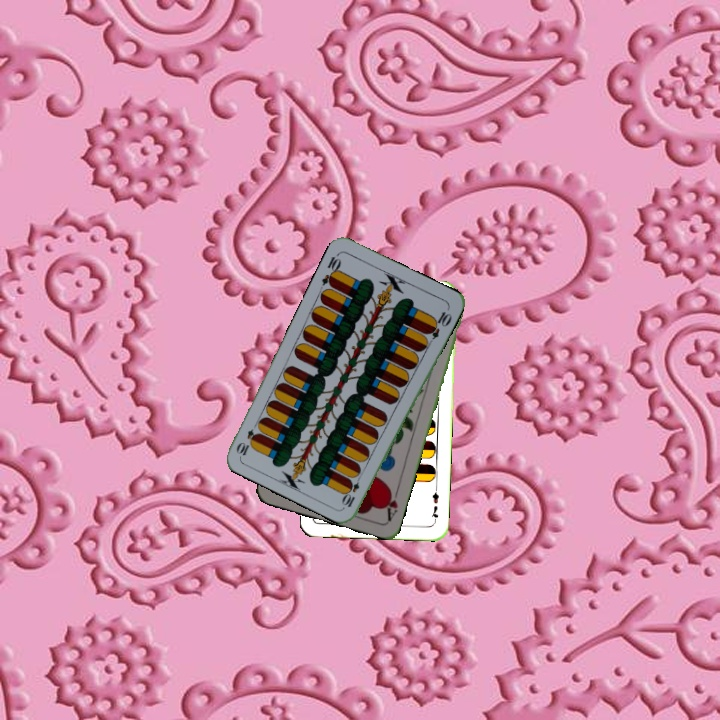E10: (318, 249, 344, 289), (339, 470, 364, 510)
E7: (427, 484, 441, 525)
HA: (381, 483, 402, 523)
